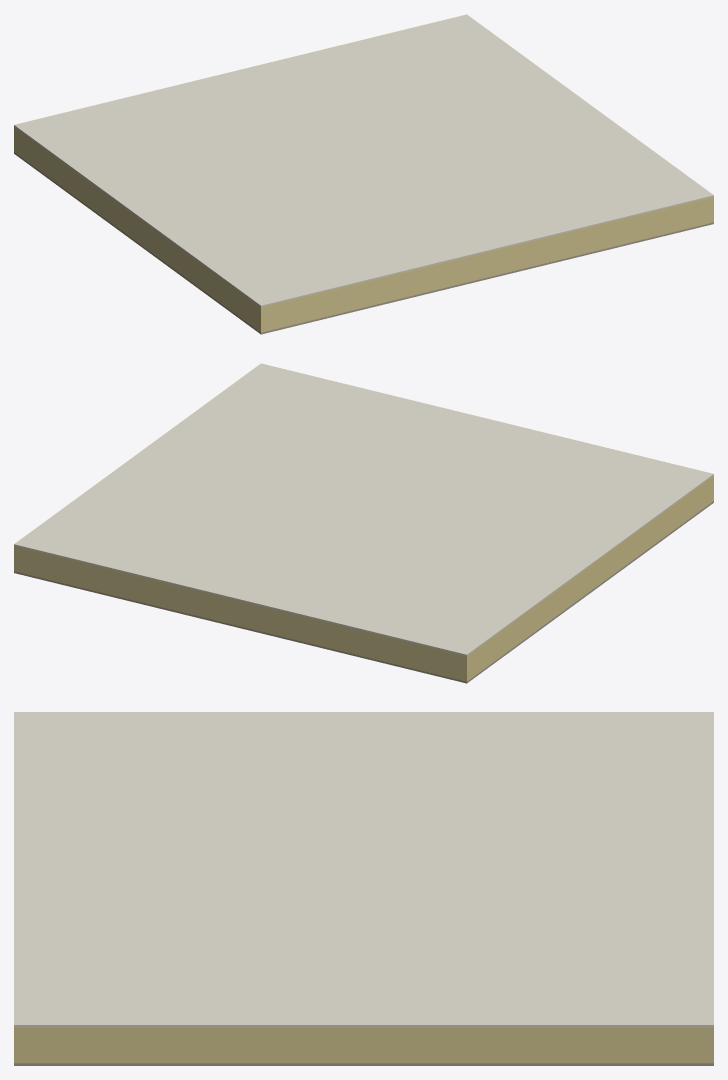
Rendered from gbi_L1_2.glb.
3 views of the same model, one above another, from view 1: azimuth 30°, elevation 25°; view 2: azimuth 150°, elevation 25°; view 3: azimuth 270°, elevation 25° (orthographic). The views are drawn at different scales.
Parts seen in each view (by area): view 1: Ceiling, Wall_S_1, Wall_W_1, Floor; view 2: Ceiling, Wall_N_1, Wall_W_1, Floor; view 3: Ceiling, Wall_E_1, Floor.
Part boxes in pixels (x1=…): Ceiling: x1=14, y1=14, x2=713, y2=307; Wall_S_1: x1=260, y1=197, x2=713, y2=332; Wall_W_1: x1=15, y1=127, x2=259, y2=331; Floor: x1=14, y1=152, x2=713, y2=334; Ceiling: x1=14, y1=363, x2=713, y2=656; Wall_N_1: x1=14, y1=546, x2=467, y2=681; Wall_W_1: x1=468, y1=476, x2=712, y2=680; Floor: x1=14, y1=501, x2=713, y2=683; Ceiling: x1=14, y1=712, x2=713, y2=1027; Wall_E_1: x1=16, y1=1027, x2=711, y2=1063; Floor: x1=14, y1=1063, x2=713, y2=1065.
Size of the model in its own units: 52.6 by 3.3 by 49.7.
